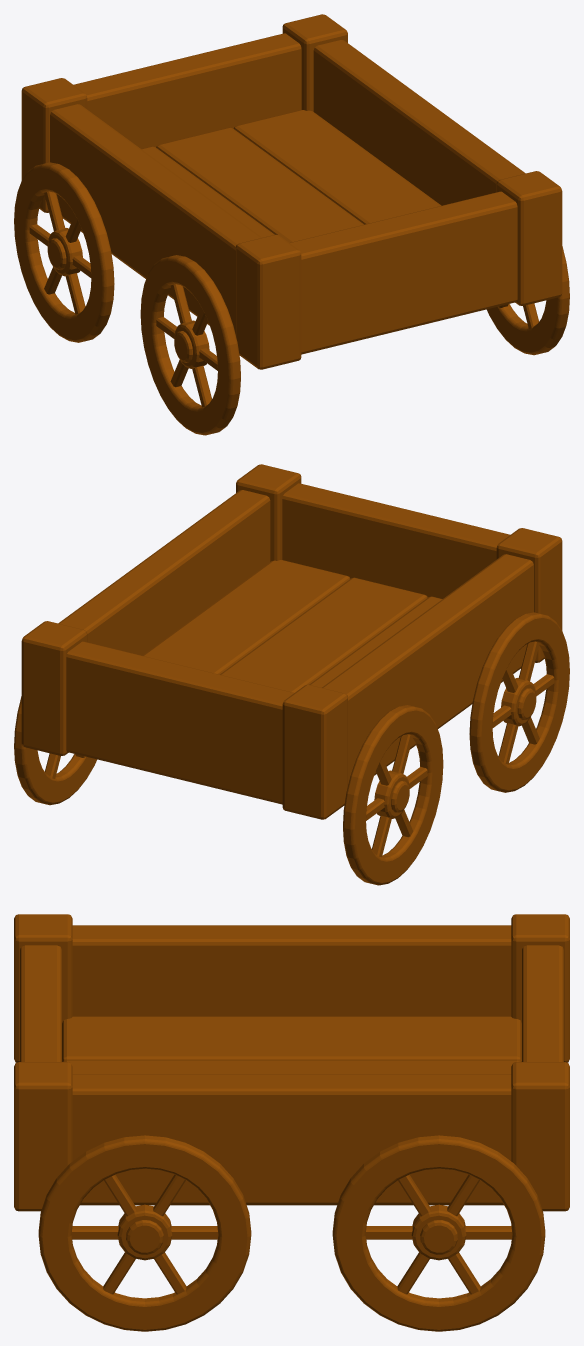
Rendered from Sign@Packer.fbx.
3 views of the same model, one above another, from view 1: azimuth 30°, elevation 25°; view 2: azimuth 150°, elevation 25°; view 3: azimuth 270°, elevation 25° (orthographic). The views are drawn at different scales.
Parts seen in each view (by area): view 1: PackAssets_cart; view 2: PackAssets_cart; view 3: PackAssets_cart.
Part boxes in pixels (x1=…): PackAssets_cart: x1=14, y1=14, x2=569, y2=435; PackAssets_cart: x1=14, y1=464, x2=569, y2=885; PackAssets_cart: x1=14, y1=914, x2=569, y2=1331.
Bounding box in the file's own units: 94.52 × 53.14 × 112.
